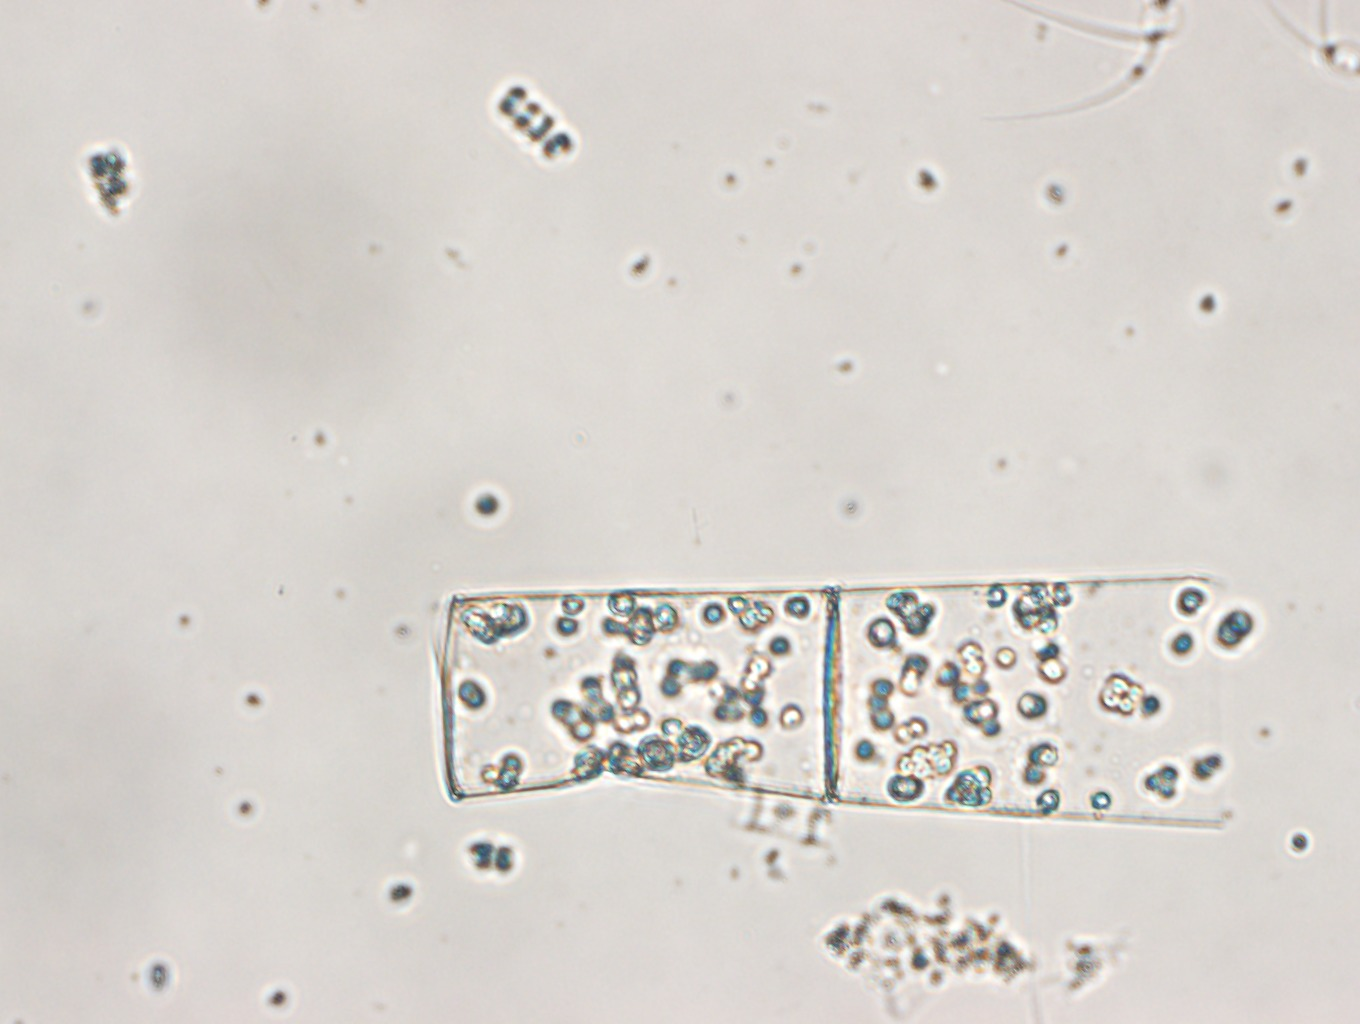guinardia flaccida: (432, 575, 1249, 836)
